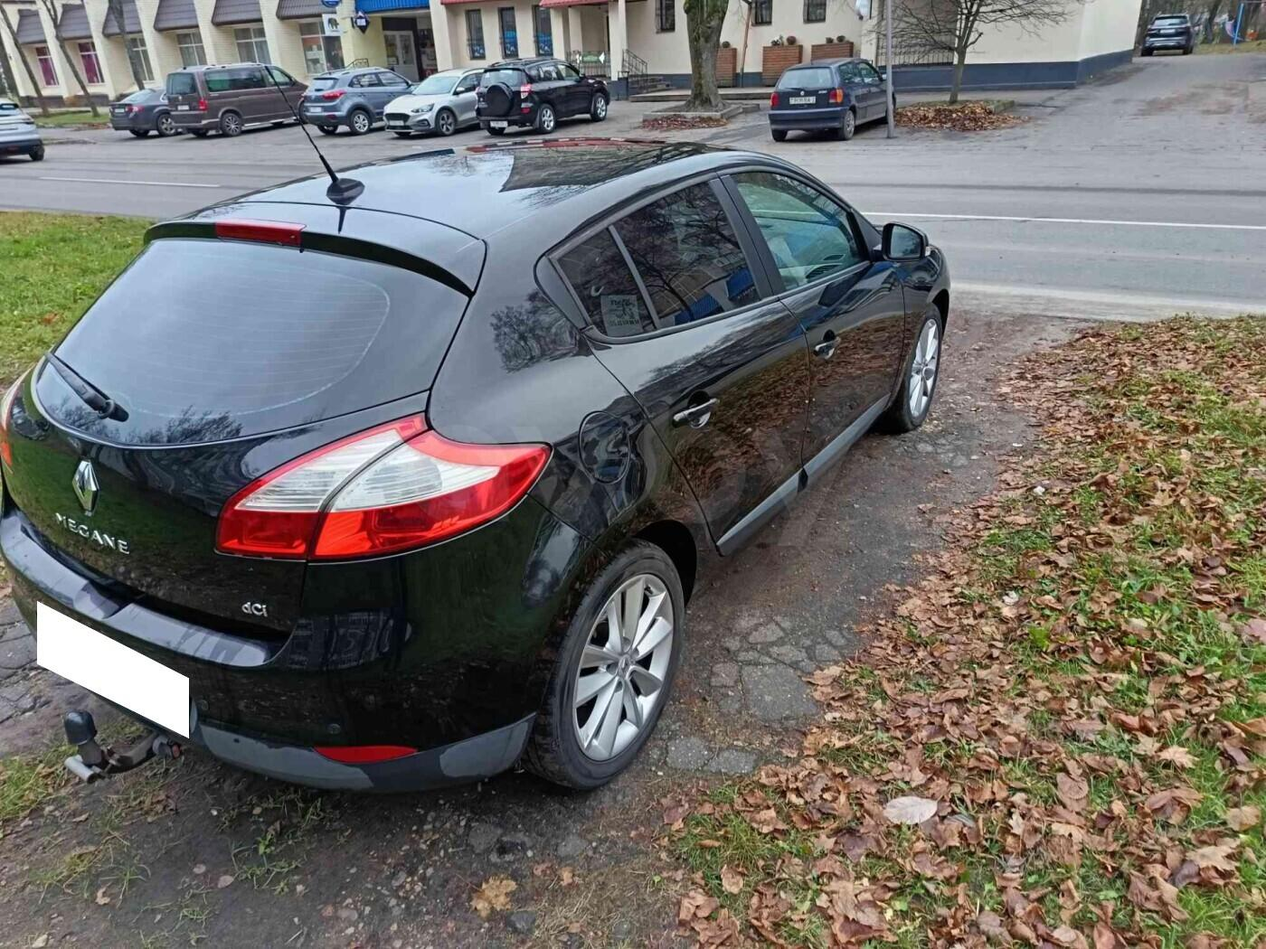Megane_2008-2014: (0, 143, 968, 806)
